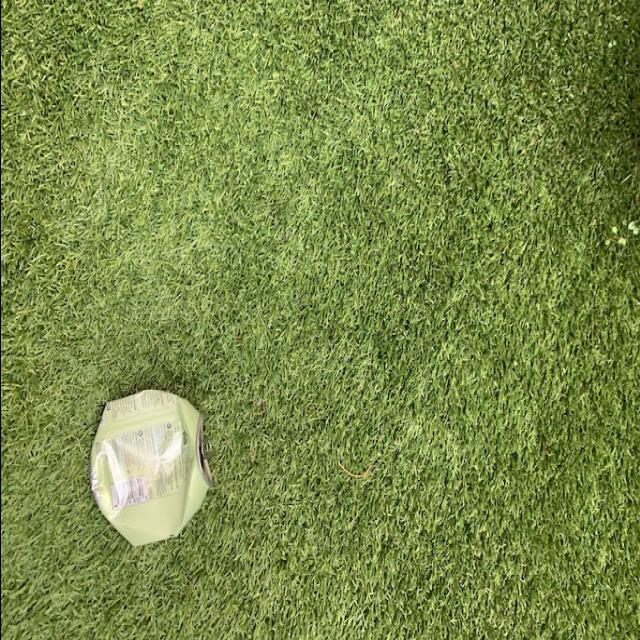Aluminum Can: (86, 385, 210, 555)
